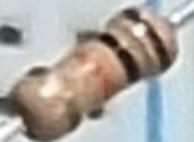Black: (84, 25, 148, 86)
Brown: (115, 6, 180, 74)
Orange: (65, 46, 124, 103)
Side-Silver: (24, 62, 86, 134)
